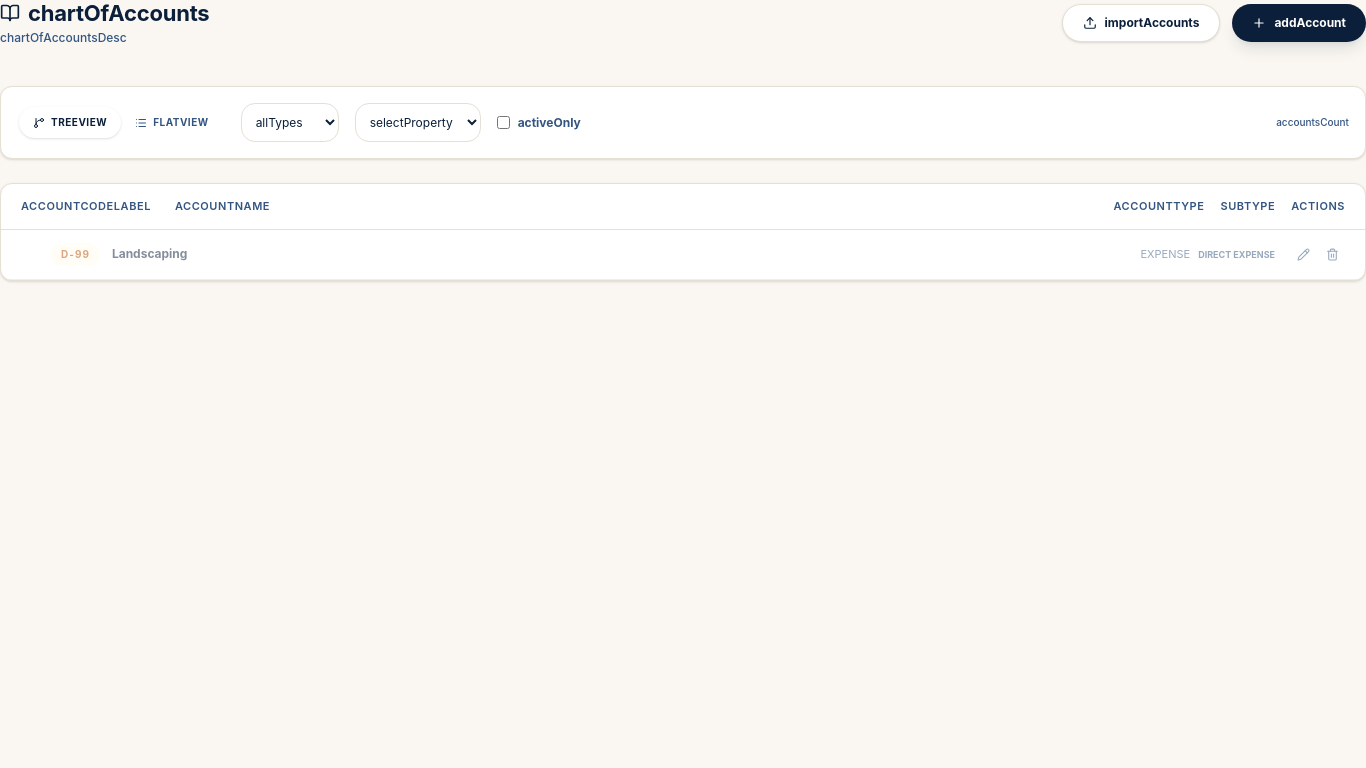
Test: AccountsPage › shows a page-level alert when a delete is rejected
Expected: the text "Landscaping" is shown, [112,246,187,262]
Click the button titled "deleteAccount".
click(1332, 254)  # box [1320,242,1345,267]
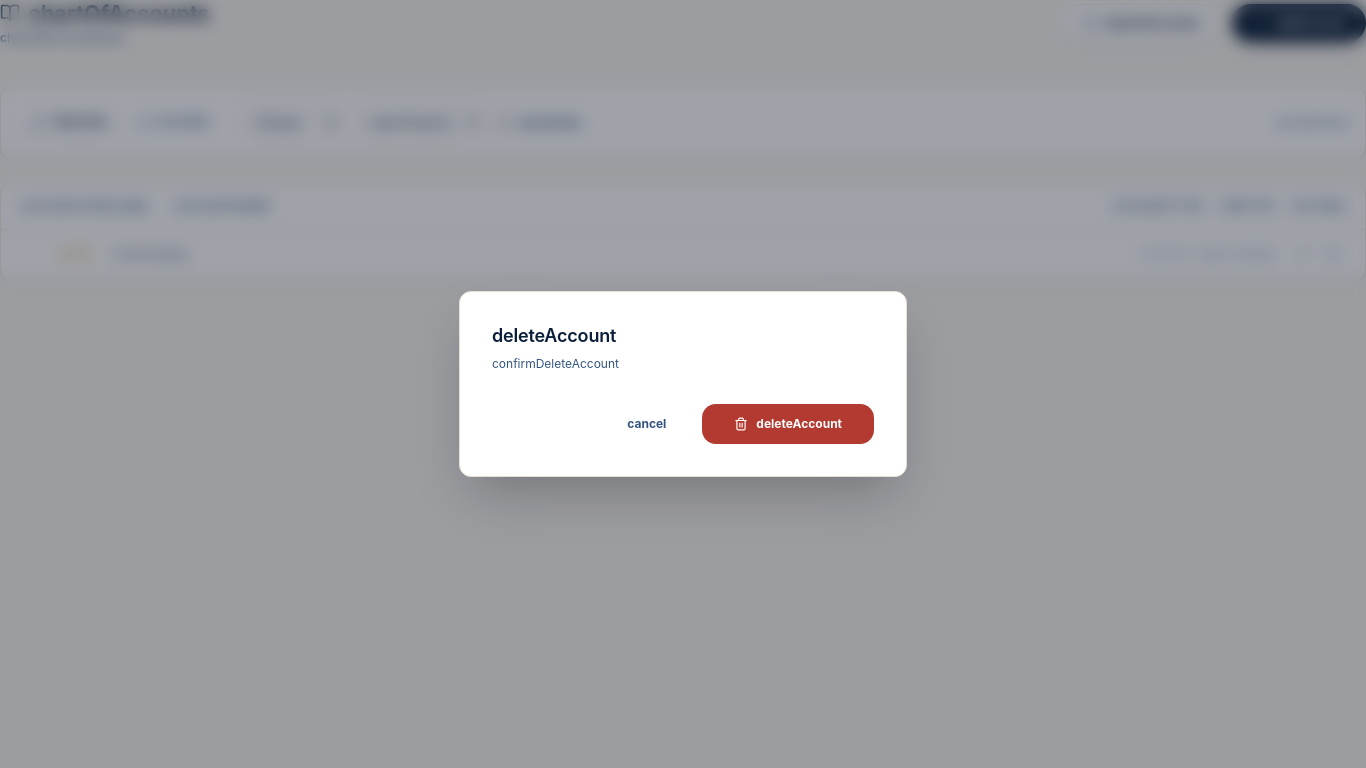
Click the button "deleteAccount".
click(788, 424)  # box [702,404,874,444]
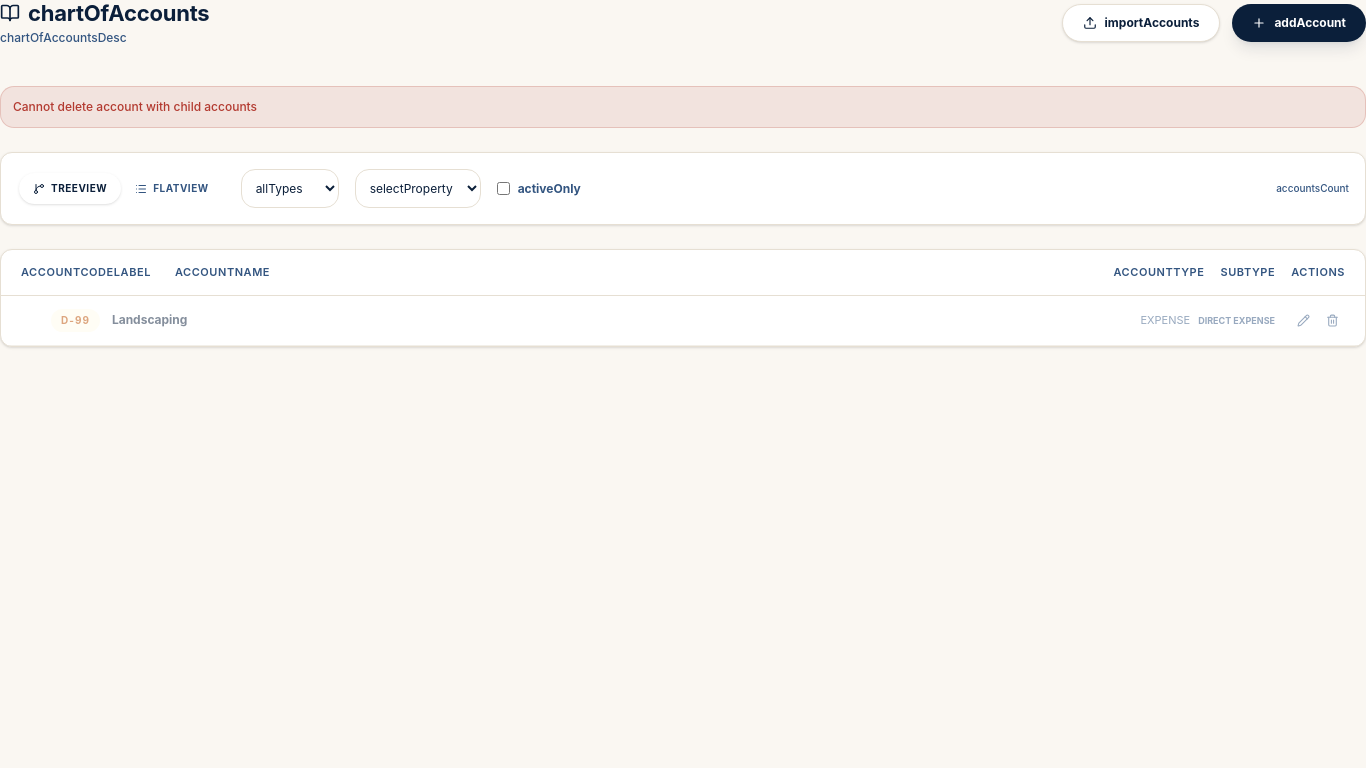
Expected: the text "Cannot delete account with child accounts" is shown, [0,86,1365,128]
Expected: the message reads "Cannot delete account with child accounts", [13,99,257,114]
